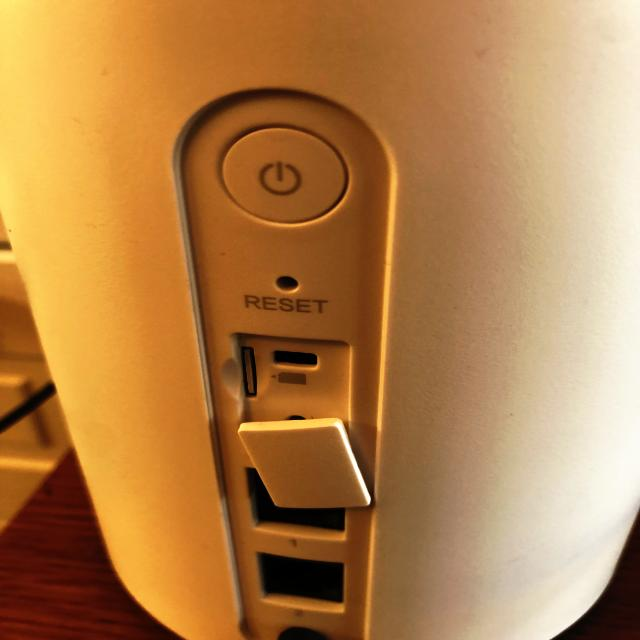lan: (258, 551, 349, 614)
modem: (0, 0, 640, 640)
onbutton: (214, 127, 351, 227)
siminside: (212, 333, 274, 416)
